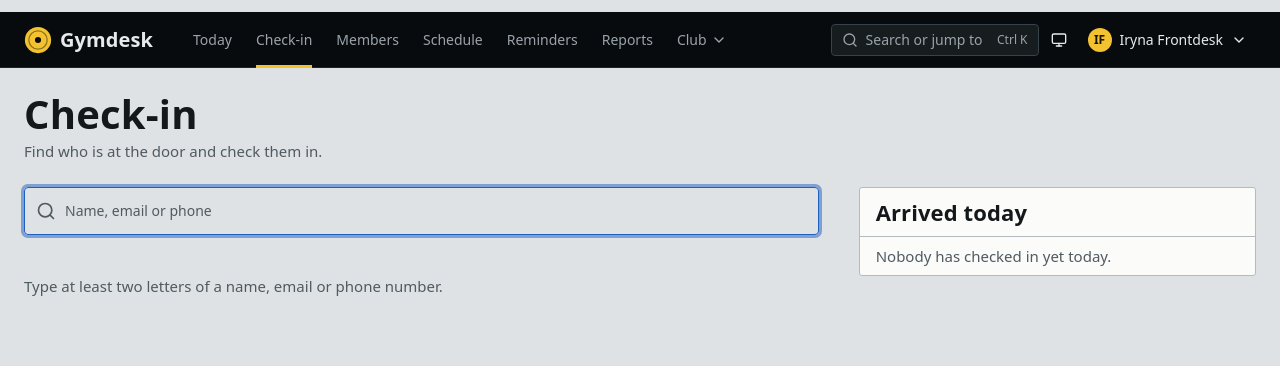
Test case: finding members › lists matches with their subscription and a check-in button for those who can come in
This screenshot has width=1280, height=366.
Check: the heading "Check-in" is shown, box [24,86,198,141]
Step 1. Type "a" into the search field named "Find a member" → (421, 210), box [24,186,819,234]
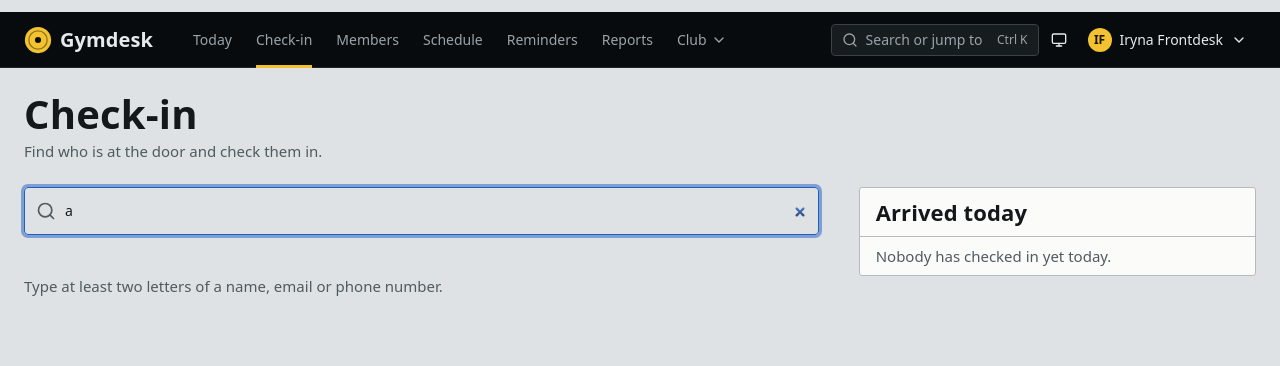
Step 2. Type "s" into the search field named "Find a member" → (421, 210), box [24,186,819,234]
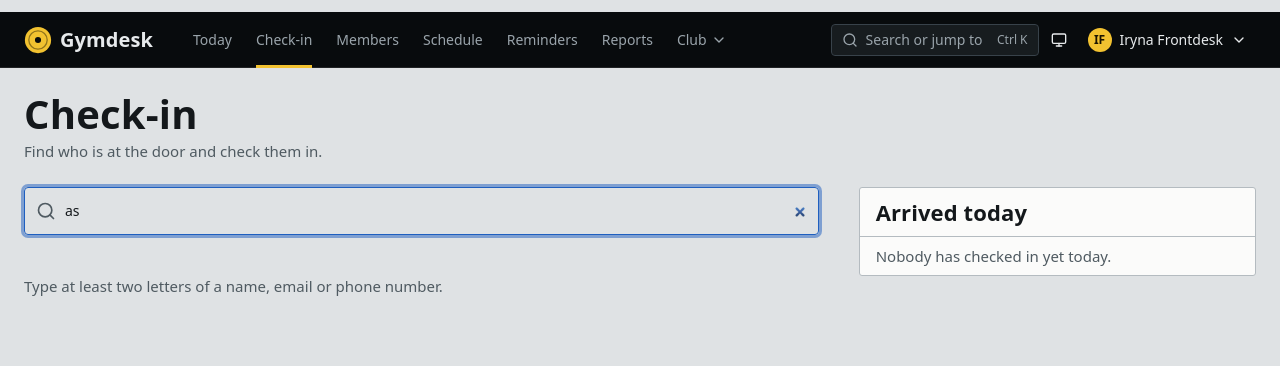
Step 3. Replace the text in the search field named "Find a member" with "ta" → (421, 210), box [24,186,819,234]
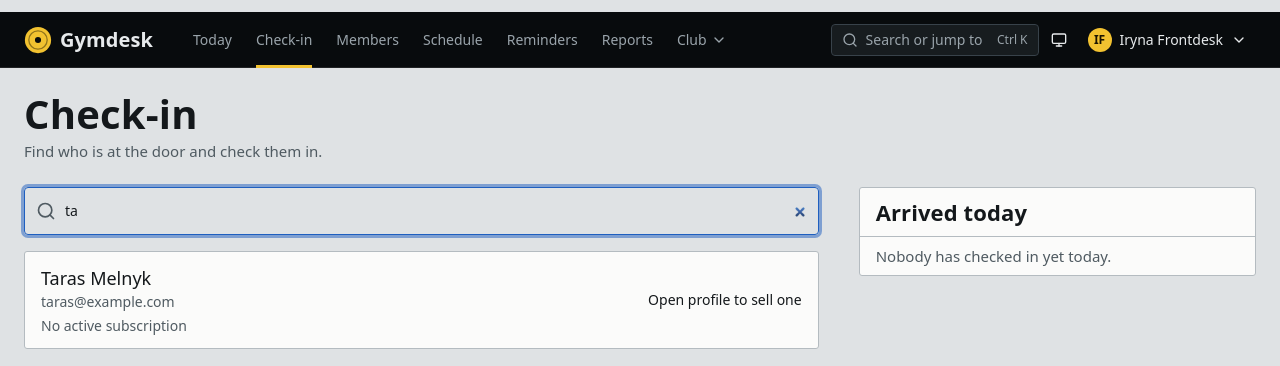
Check: the text "No active subscription" is shown, box [41,316,187,334]
